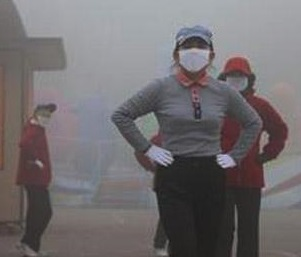person: (109, 24, 264, 257), (216, 56, 290, 257), (14, 101, 58, 257)
